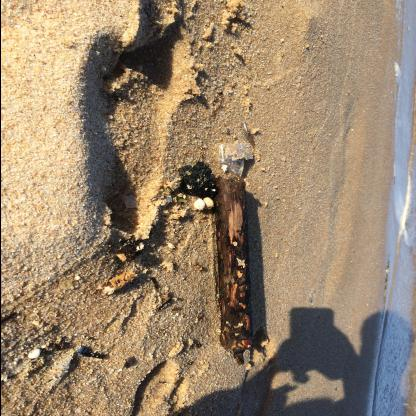plastik: (217, 143, 252, 178)
